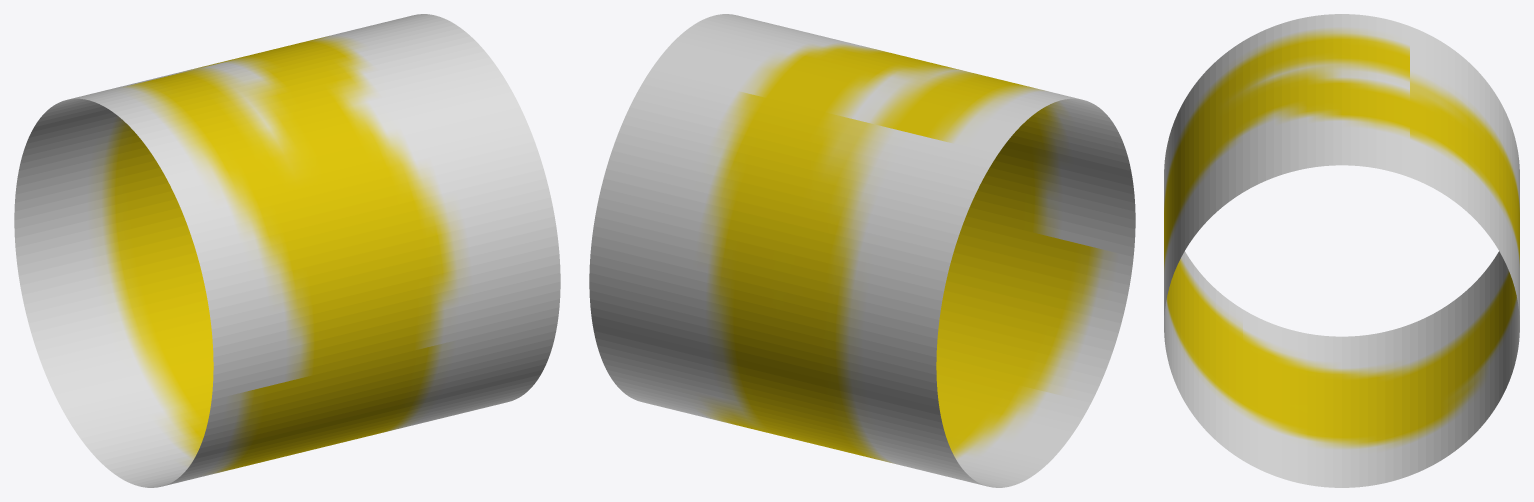
Rendered from track.fbx.
3 renders of one model, left to right at view 1: azimuth 30°, elevation 25°; view 2: azimuth 150°, elevation 25°; view 3: azimuth 270°, elevation 25°, orthographic. The views are drawn at different scales.
Visible parts, largest first — view 1: Cylinder; view 2: Cylinder; view 3: Cylinder.
Boxes of the visible parts, x1,y1,x2,y2 form: Cylinder: (14, 14, 560, 487); Cylinder: (589, 14, 1135, 487); Cylinder: (1164, 14, 1519, 487).
Size of the model in its own units: 4 by 3.98 by 3.98.
